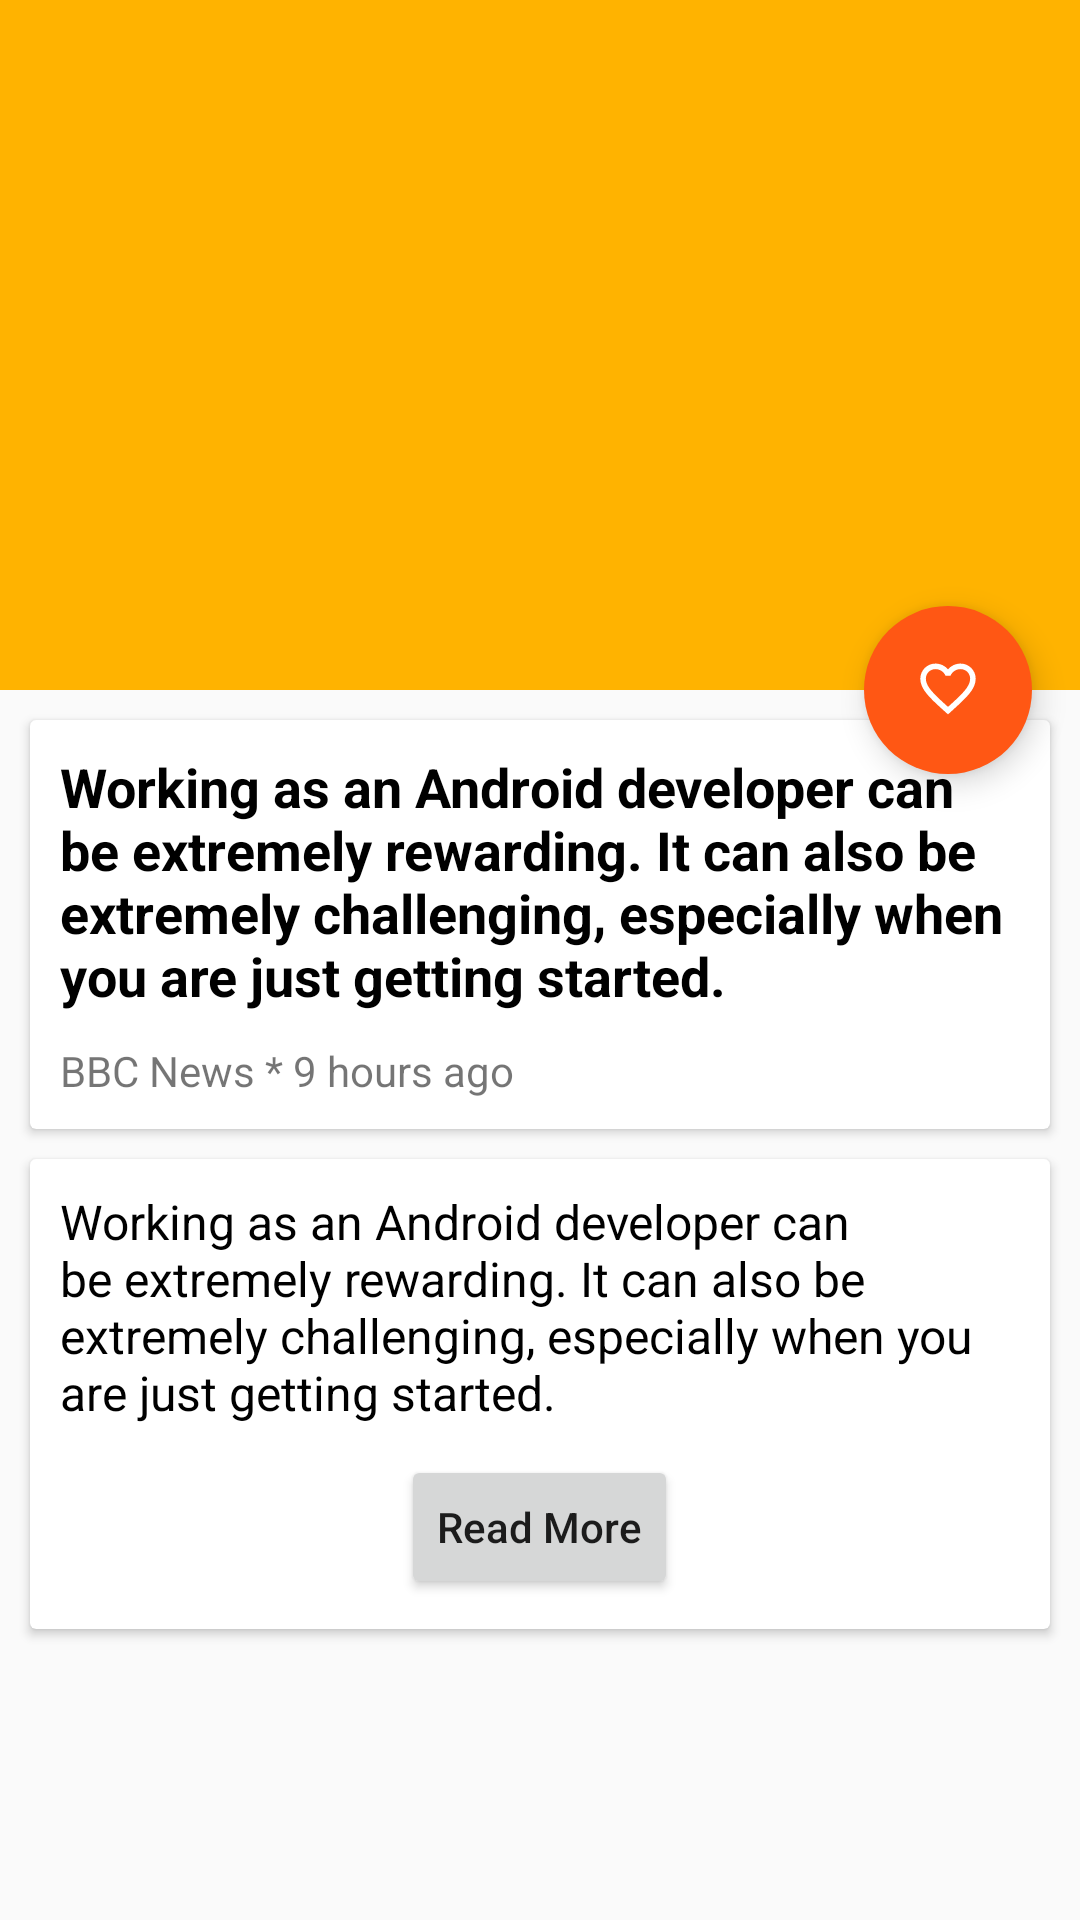

Point at icon controls on the screen. Image size 1080 × 1920, points as [x,y].
fav: [948,690]
